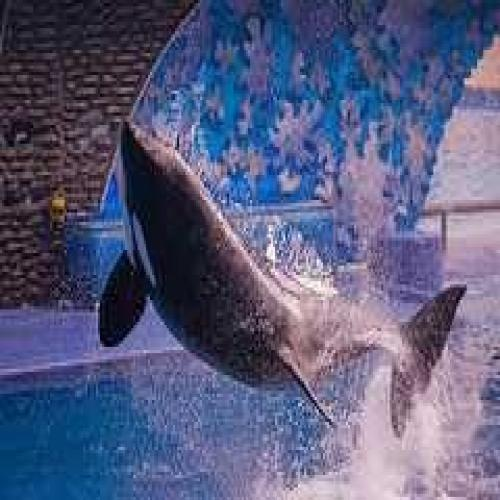killer_whale-endangered: (103, 95, 457, 434)
